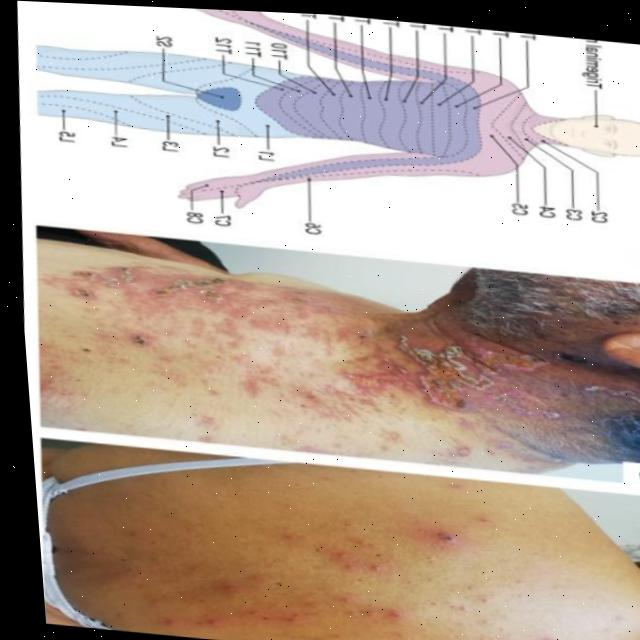Shingles: (77, 257, 568, 440), (148, 491, 512, 640)
